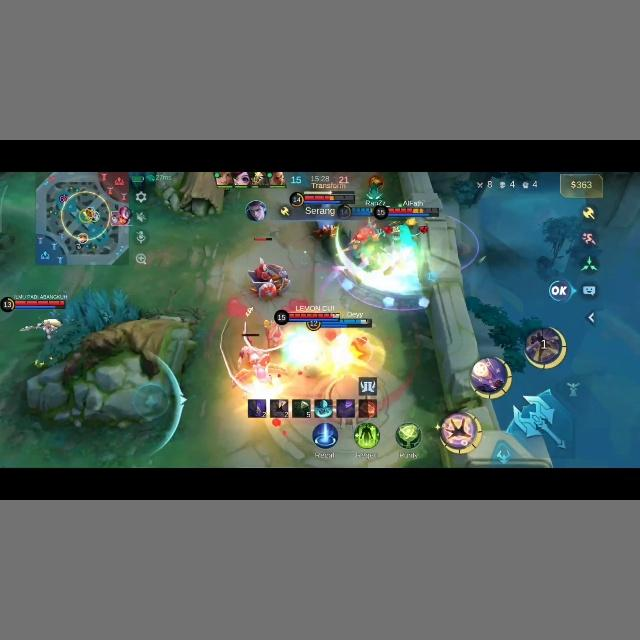hp_enemy: (270, 309, 344, 325), (0, 296, 70, 311), (386, 206, 441, 217), (304, 190, 354, 201), (254, 237, 276, 242), (240, 334, 260, 336)
hp_self: (318, 317, 374, 327)
minion_enemy: (248, 259, 291, 299), (240, 350, 272, 383)
